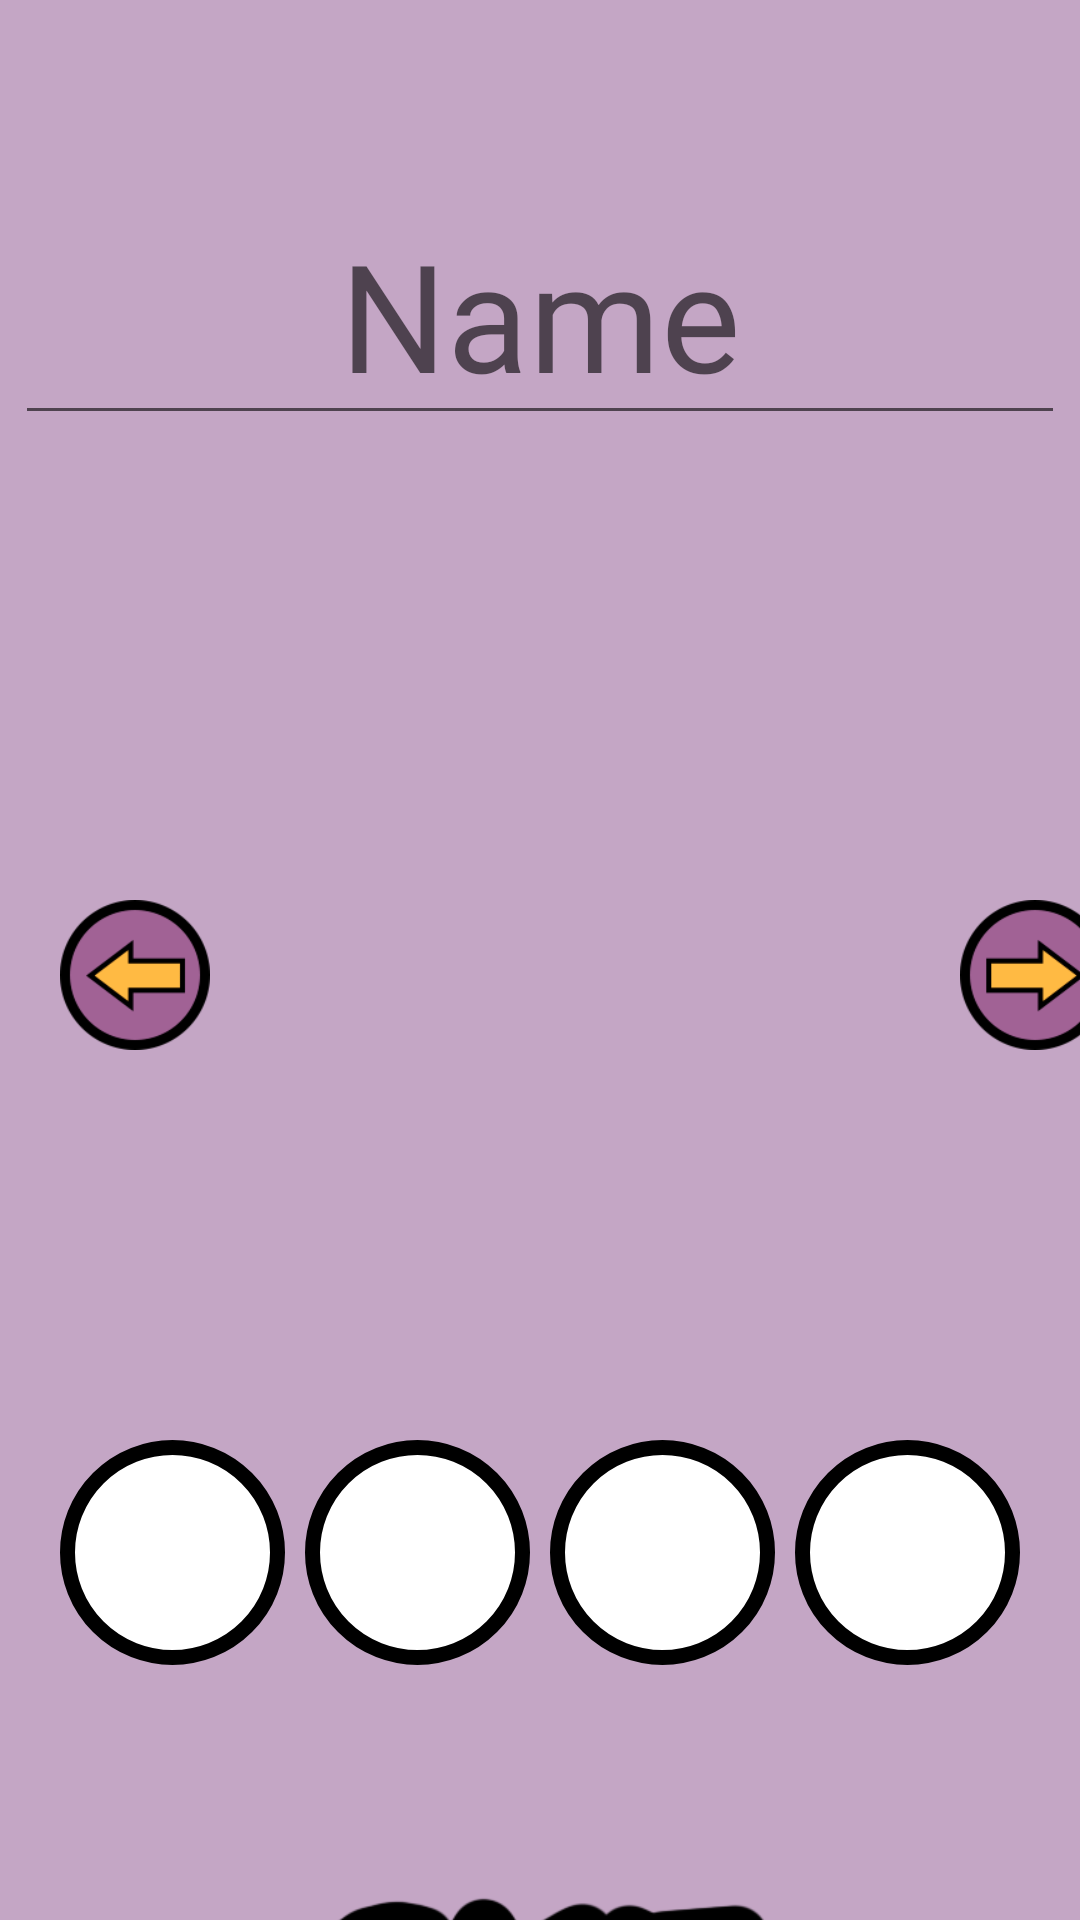

Point at icon controls on the screen. Image size 1080px×1920px, points as [x,y].
change pet left: [135,975]
